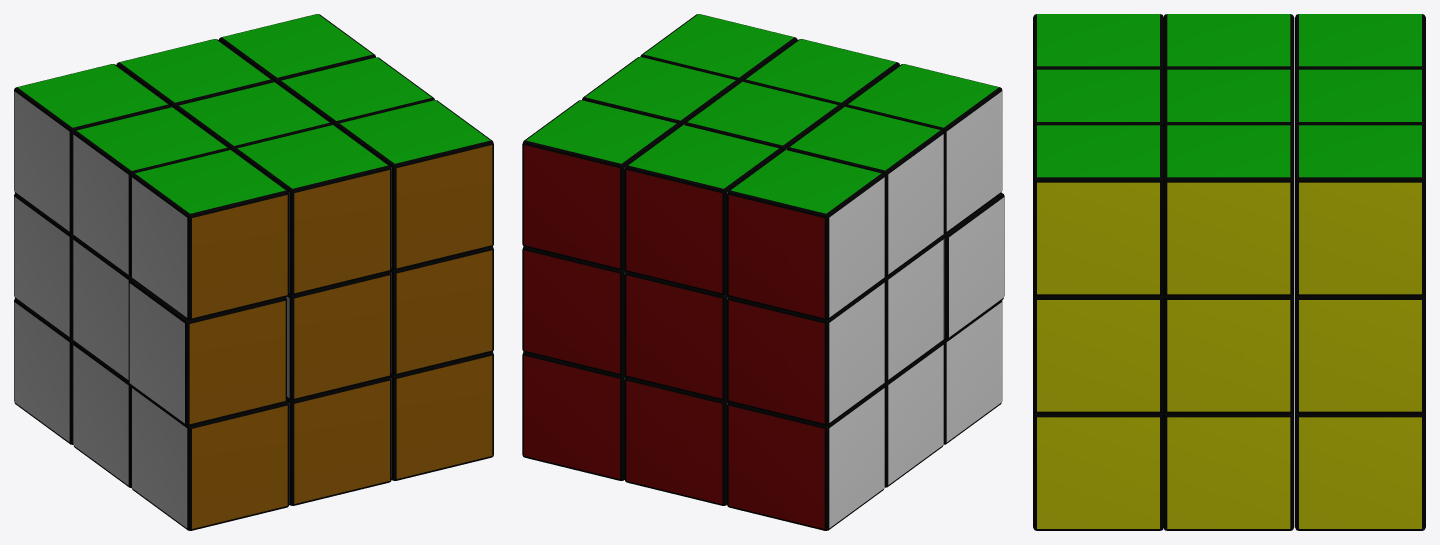
The model's file is Export_First_Try.fbx.
3 renders of one model, left to right at view 1: azimuth 30°, elevation 25°; view 2: azimuth 150°, elevation 25°; view 3: azimuth 270°, elevation 25°, orthographic. The views are drawn at different scales.
Parts seen in each view (by area): view 1: pCube22DONE, pCube28, pCube1, pCube21DONE, pCube23DONE, pCube27DONE, pCube24DONE, pCube12, pCube2, pCube14, pCube3, pCube18 (+7 smaller); view 2: pCube27DONE, pCube9, pCube18, pCube26DONE, pCube25DONE, pCube24DONE, pCube22DONE, pCube16, pCube17, pCube7, pCube8, pCube28 (+7 smaller); view 3: pCube20DONE, pCube23DONE, pCube25DONE, pCube11, pCube6, pCube16, pCube14, pCube8, pCube3, pCube19DONE, pCube26DONE, pCube21DONE (+3 smaller).
Boxes of the visible parts, <box> form: pCube22DONE: <box>131,150,289,320</box>; pCube28: <box>129,279,286,425</box>; pCube1: <box>131,386,289,530</box>; pCube21DONE: <box>234,125,391,295</box>; pCube23DONE: <box>336,100,493,270</box>; pCube27DONE: <box>14,64,171,233</box>; pCube24DONE: <box>73,107,230,277</box>; pCube12: <box>286,271,391,400</box>; pCube2: <box>287,377,391,505</box>; pCube14: <box>390,246,493,375</box>; pCube3: <box>390,352,493,480</box>; pCube18: <box>14,193,73,339</box>; pCube27DONE: <box>727,150,884,320</box>; pCube9: <box>727,385,884,530</box>; pCube18: <box>727,279,884,425</box>; pCube26DONE: <box>624,125,782,295</box>; pCube25DONE: <box>522,100,679,270</box>; pCube24DONE: <box>786,106,943,276</box>; pCube22DONE: <box>845,64,1002,233</box>; pCube16: <box>522,246,625,375</box>; pCube17: <box>624,271,727,400</box>; pCube7: <box>624,377,727,505</box>; pCube8: <box>522,352,625,480</box>; pCube28: <box>943,193,1004,339</box>; pCube20DONE: <box>1163,125,1294,296</box>; pCube23DONE: <box>1033,125,1163,296</box>; pCube25DONE: <box>1295,125,1425,296</box>; pCube11: <box>1163,293,1294,413</box>; pCube6: <box>1163,410,1294,530</box>; pCube16: <box>1295,293,1425,413</box>; pCube14: <box>1033,293,1163,413</box>; pCube8: <box>1295,410,1425,530</box>; pCube3: <box>1033,410,1163,530</box>; pCube19DONE: <box>1163,69,1294,128</box>; pCube26DONE: <box>1295,69,1425,128</box>; pCube21DONE: <box>1033,69,1163,128</box>.
Bounding box in the file's own units: 3.03 × 2.98 × 3.
